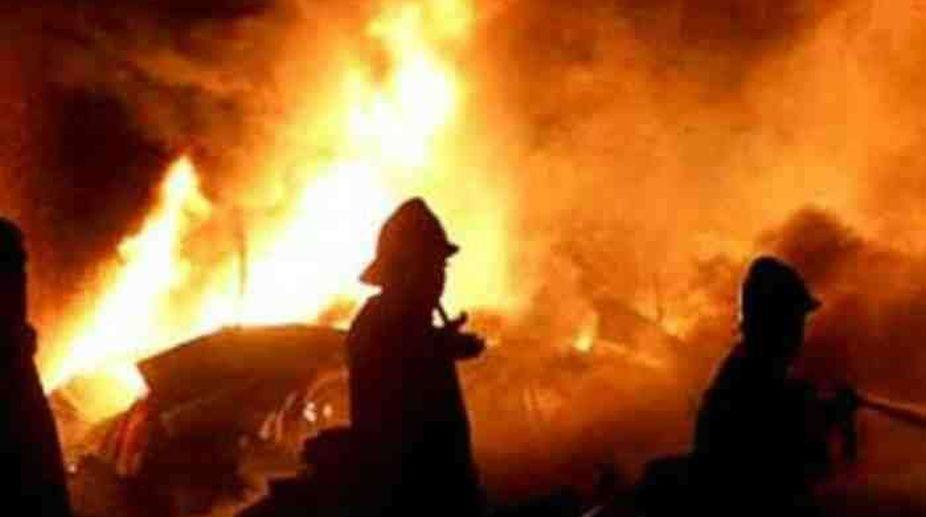Fire: (182, 5, 473, 347), (36, 140, 213, 406)
